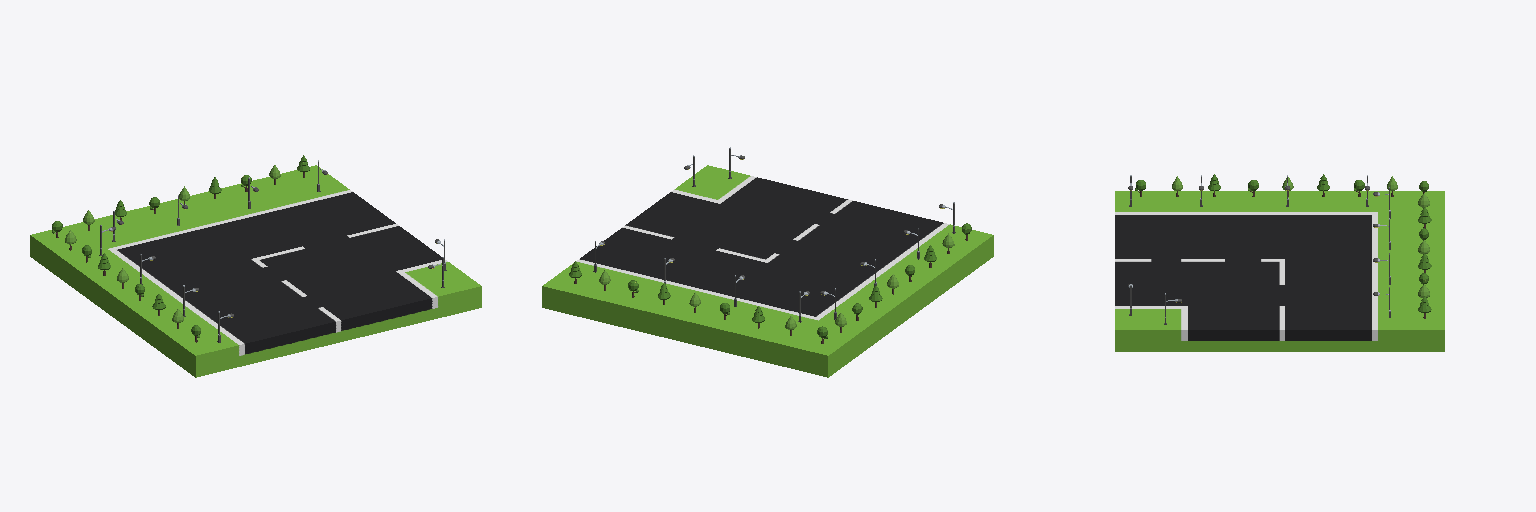
3 renders of one model, left to right at view 1: azimuth 30°, elevation 25°; view 2: azimuth 150°, elevation 25°; view 3: azimuth 270°, elevation 25°, orthographic.
Visible parts, largest first — view 1: Object122; view 2: Object122; view 3: Object122.
Part boxes in pixels (bbox=[...]): Object122: bbox=[30, 155, 481, 377]; Object122: bbox=[542, 147, 993, 377]; Object122: bbox=[1115, 174, 1444, 351].
Bounding box in the file's own units: 2252 × 396 × 2252.
Materials: 1 (1 with a texture image).